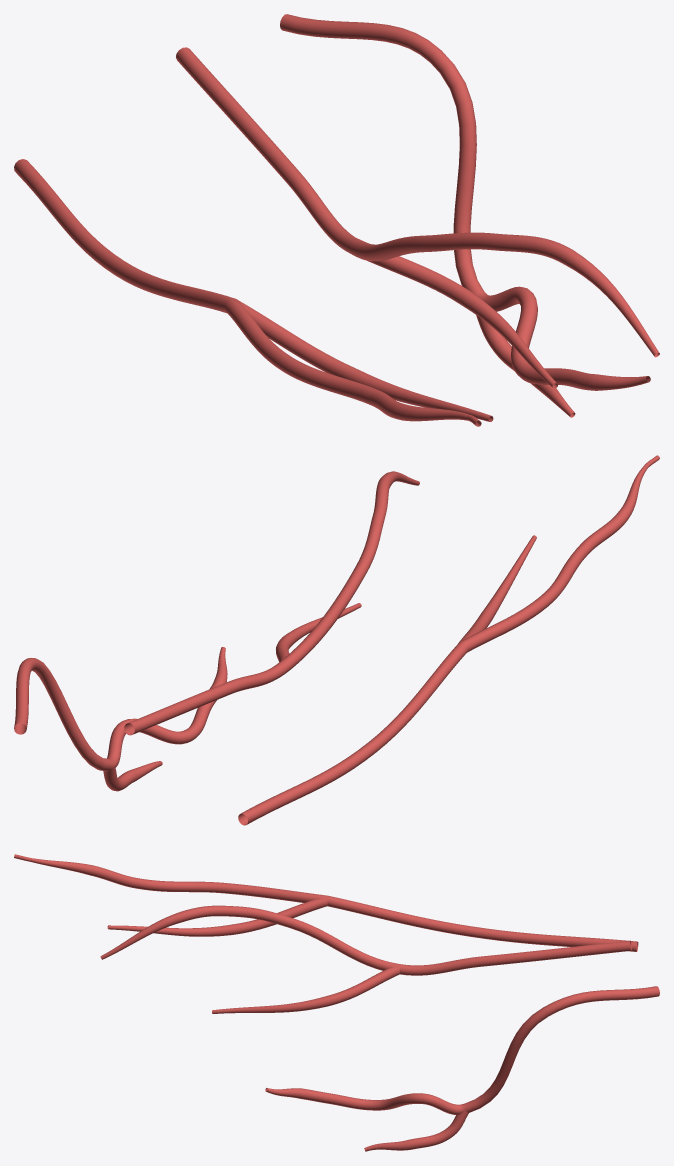
The picture shows the model from 3 angles, top to bottom: view 1: azimuth 30°, elevation 25°; view 2: azimuth 150°, elevation 25°; view 3: azimuth 270°, elevation 25°; orthographic projection. The views are drawn at different scales.
Visible parts, largest first — view 1: 右侧近侧外侧豆纹动脉; view 2: 右侧近侧外侧豆纹动脉; view 3: 右侧近侧外侧豆纹动脉.
Boxes of the visible parts, x1,y1,x2,y2 form: 右侧近侧外侧豆纹动脉: [14, 14, 659, 426]; 右侧近侧外侧豆纹动脉: [14, 455, 659, 825]; 右侧近侧外侧豆纹动脉: [14, 854, 659, 1151].
Size of the model in its own units: 0.00864 by 0.006 by 0.018.
